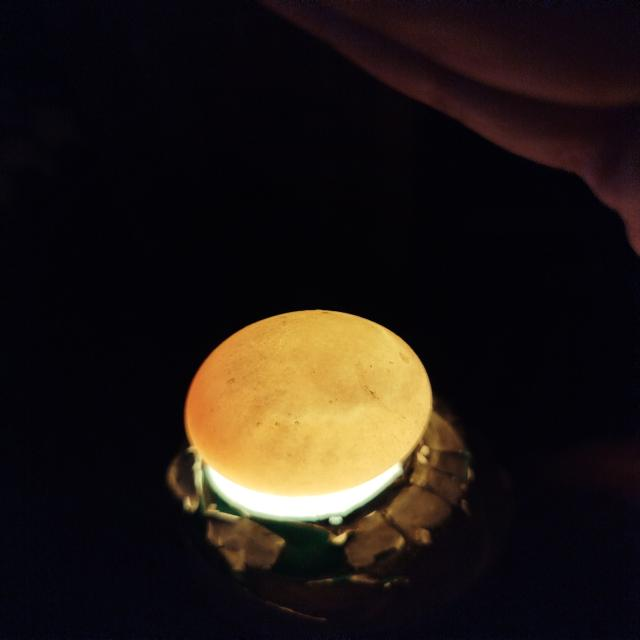Camara de Ar: (221, 311, 410, 425)
